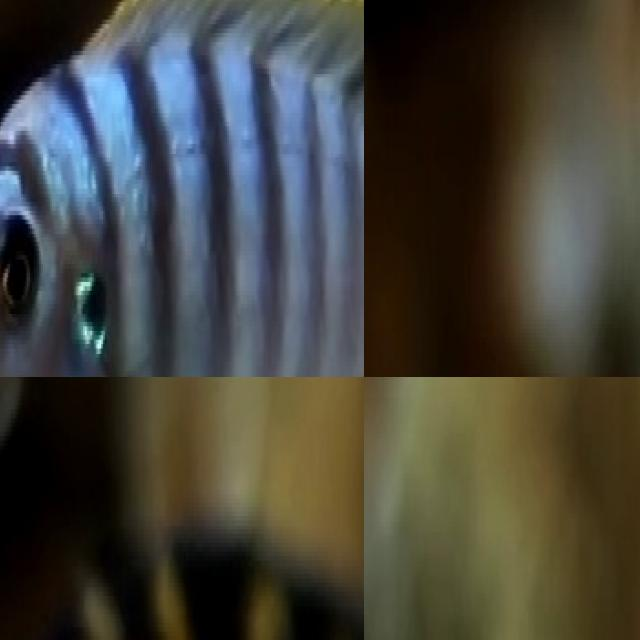fish: (0, 0, 364, 377), (0, 489, 364, 640)
